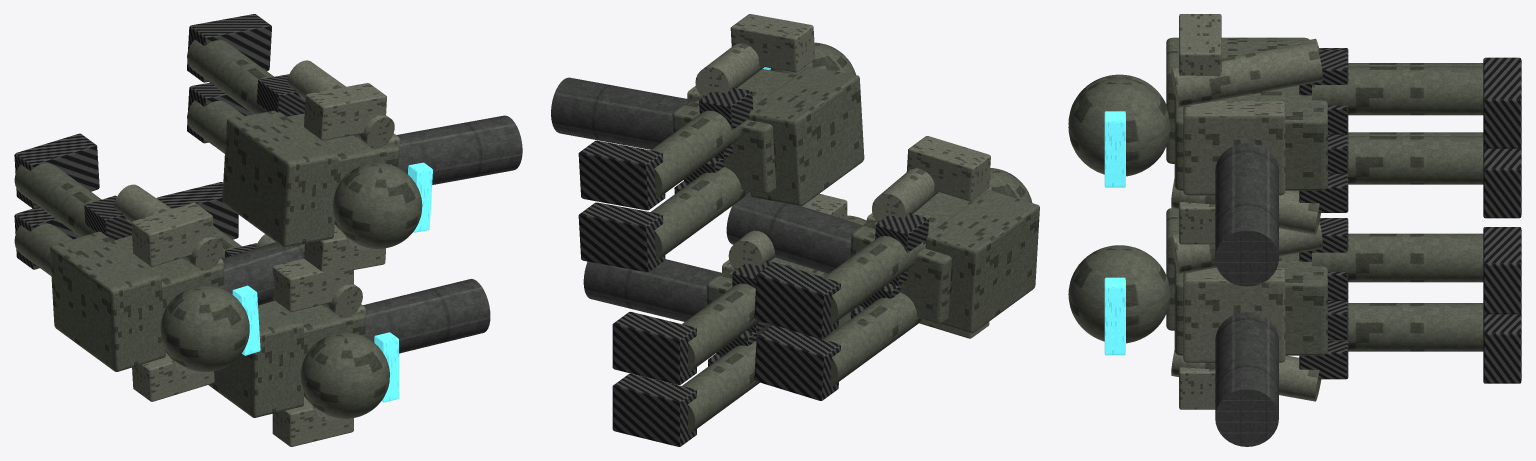
Rendered from v-u05-vanguard-anti-air-team-lod0.glb.
The picture shows the model from 3 angles, left to right: view 1: azimuth 30°, elevation 25°; view 2: azimuth 150°, elevation 25°; view 3: azimuth 270°, elevation 25°; orthographic projection. The views are drawn at different scales.
Visible parts, largest first — view 1: soldier_0_backpack, soldier_2_backpack, soldier_1_backpack, soldier_1_launcher, soldier_0_launcher, soldier_2_helmet, soldier_1_helmet, soldier_0_helmet, soldier_2_shoulder_1, soldier_0_shoulder_1, soldier_2_leg_1, soldier_0_leg_1 (+23 smaller); view 2: soldier_0_backpack, soldier_2_backpack, soldier_0_launcher, soldier_2_launcher, soldier_1_launcher, soldier_2_boot_1, soldier_1_boot_1, soldier_1_boot_-1, soldier_2_boot_-1, soldier_0_boot_-1, soldier_0_boot_1, soldier_2_torso (+19 smaller); view 3: soldier_0_launcher, soldier_1_launcher, soldier_0_leg_1, soldier_1_leg_1, soldier_0_chest, soldier_1_leg_-1, soldier_0_leg_-1, soldier_0_helmet, soldier_1_helmet, soldier_1_chest, soldier_0_arm_1, soldier_0_torso (+25 smaller).
Boxes of the visible parts, box(x1,y1,x2,y2) form: soldier_0_backpack: box(222, 110, 338, 247); soldier_2_backpack: box(50, 231, 165, 371); soldier_1_backpack: box(208, 301, 303, 417); soldier_1_launcher: box(363, 279, 490, 353); soldier_0_launcher: box(396, 115, 522, 184); soldier_2_helmet: box(160, 285, 249, 371); soldier_1_helmet: box(300, 332, 389, 418); soldier_0_helmet: box(333, 163, 422, 248); soldier_2_shoulder_1: box(131, 202, 213, 266); soldier_0_shoulder_1: box(304, 83, 386, 140); soldier_2_leg_1: box(14, 163, 101, 236); soldier_0_leg_1: box(187, 39, 273, 114); soldier_0_backpack: box(748, 66, 864, 206); soldier_2_backpack: box(925, 190, 1039, 333); soldier_0_launcher: box(551, 77, 687, 149); soldier_2_launcher: box(726, 192, 862, 273); soldier_1_launcher: box(583, 259, 720, 321); soldier_2_boot_1: box(754, 262, 840, 339); soldier_1_boot_1: box(612, 311, 696, 384); soldier_1_boot_-1: box(612, 373, 696, 446); soldier_2_boot_-1: box(754, 325, 840, 400); soldier_0_boot_-1: box(578, 202, 665, 272); soldier_0_boot_1: box(578, 140, 665, 210); soldier_2_torso: box(850, 192, 972, 323); soldier_0_launcher: box(1215, 143, 1278, 286); soldier_1_launcher: box(1215, 312, 1278, 446); soldier_0_leg_1: box(1312, 66, 1483, 115); soldier_1_leg_1: box(1312, 233, 1483, 282); soldier_0_chest: box(1183, 101, 1285, 195); soldier_1_leg_-1: box(1328, 303, 1483, 351); soldier_0_leg_-1: box(1328, 136, 1483, 184); soldier_0_helmet: box(1068, 78, 1170, 176); soldier_1_helmet: box(1068, 245, 1170, 343); soldier_1_chest: box(1183, 267, 1285, 362); soldier_0_arm_1: box(1171, 41, 1322, 107); soldier_0_torso: box(1174, 85, 1327, 190).
Size of what is drawn, in the model's own units: 2.69 by 1.97 by 2.13.
5 materials, 5 textured.
